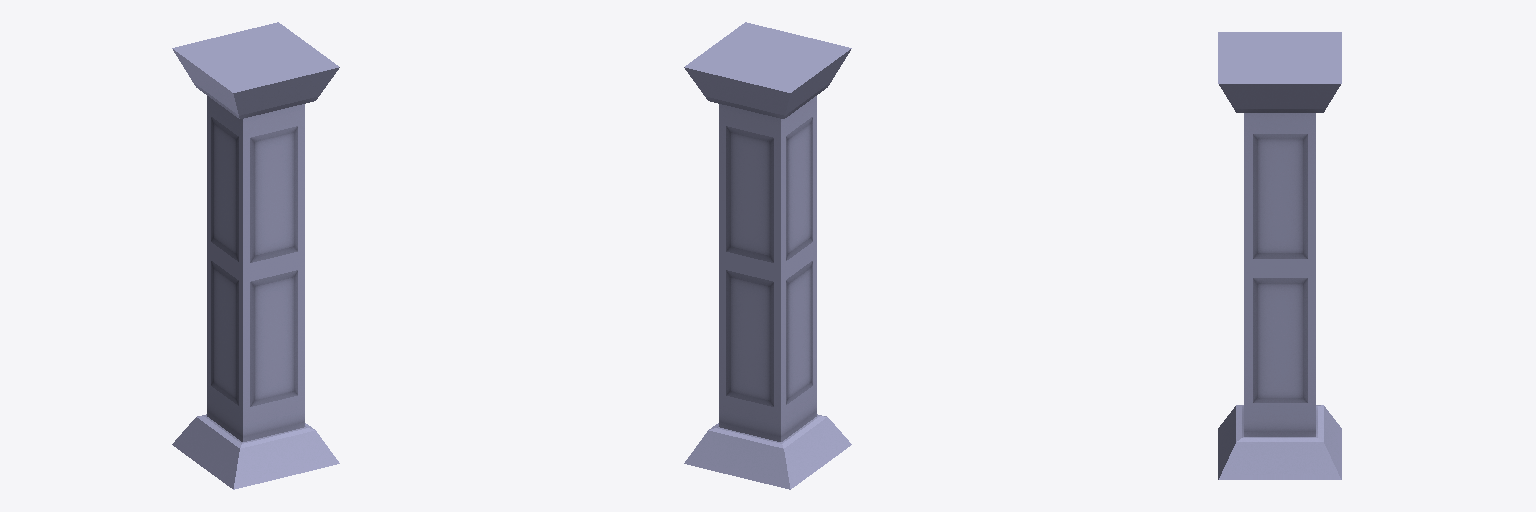
3 views of the same model, side by side, from view 1: azimuth 30°, elevation 25°; view 2: azimuth 150°, elevation 25°; view 3: azimuth 270°, elevation 25° (orthographic).
Visible parts, largest first — view 1: lp_col_Cube.001; view 2: lp_col_Cube.001; view 3: lp_col_Cube.001.
Boxes of the visible parts, <box> form: lp_col_Cube.001: <box>172,22,339,489</box>; lp_col_Cube.001: <box>684,22,851,489</box>; lp_col_Cube.001: <box>1218,32,1341,479</box>.
Bounding box in the file's own units: 2.82 × 10 × 2.82.
1 materials, 1 textured.